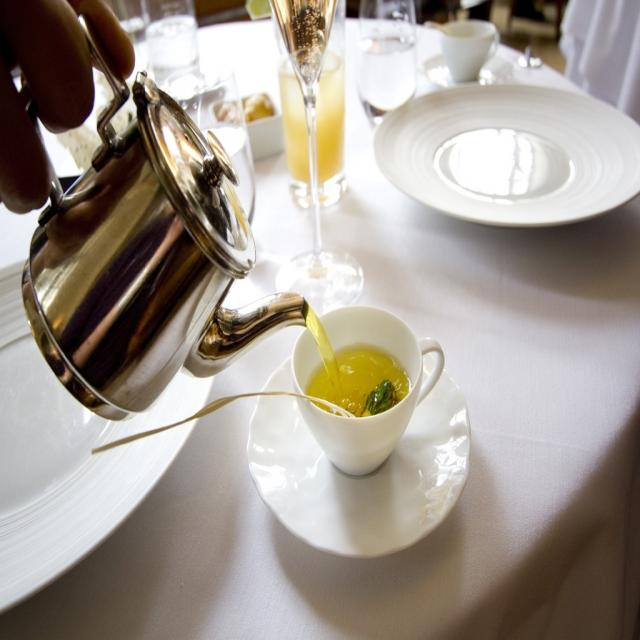Tea: (304, 342, 408, 420)
